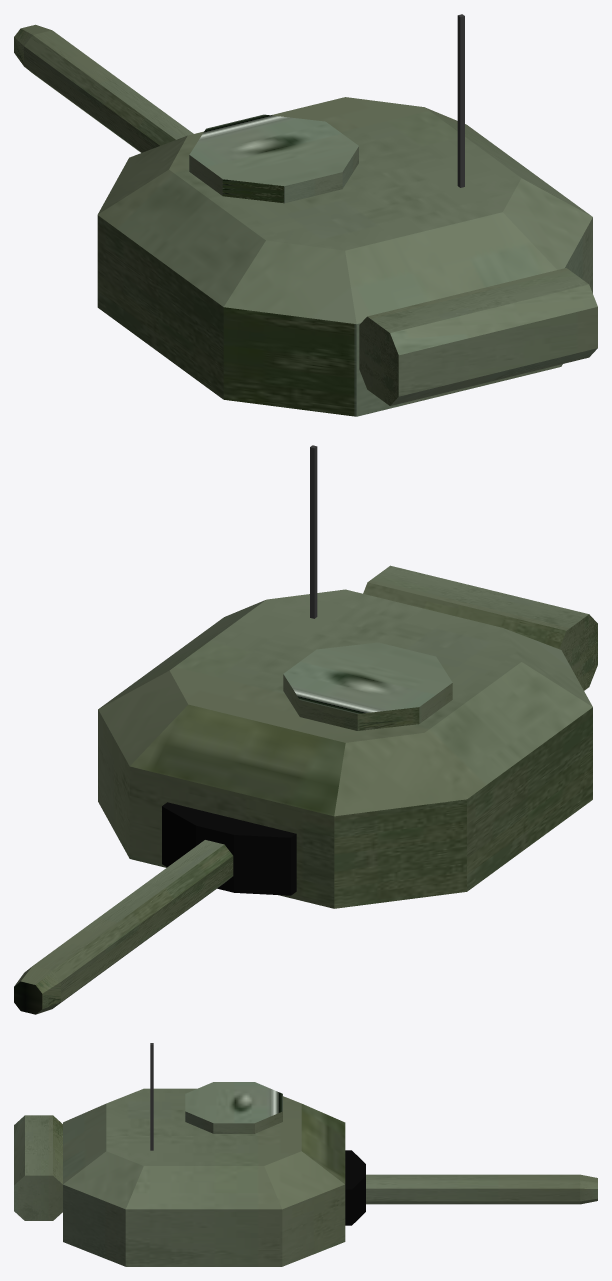
File: turret.glb
3 views of the same model, one above another, from view 1: azimuth 30°, elevation 25°; view 2: azimuth 150°, elevation 25°; view 3: azimuth 270°, elevation 25° (orthographic). The views are drawn at different scales.
Visible parts, largest first — view 1: Cube.004, Cube.005, Cube.002; view 2: Cube.004, Cube.005, Cube.001, Cube.002; view 3: Cube.004, Cube.005, Cube.001, Cube.002.
Boxes of the visible parts, box(x1,y1,x2,y2) form: Cube.004: box(97, 97, 597, 416); Cube.005: box(14, 24, 193, 152); Cube.002: box(457, 14, 464, 187); Cube.004: box(98, 565, 597, 908); Cube.005: box(14, 840, 233, 1014); Cube.001: box(162, 802, 296, 895); Cube.002: box(310, 445, 317, 618); Cube.004: box(14, 1082, 345, 1266); Cube.005: box(366, 1174, 597, 1204); Cube.001: box(345, 1150, 365, 1225); Cube.002: box(150, 1043, 153, 1150).
Bounding box in the file's own units: 4 × 3.16 × 8.83.
4 materials, 2 textured.
